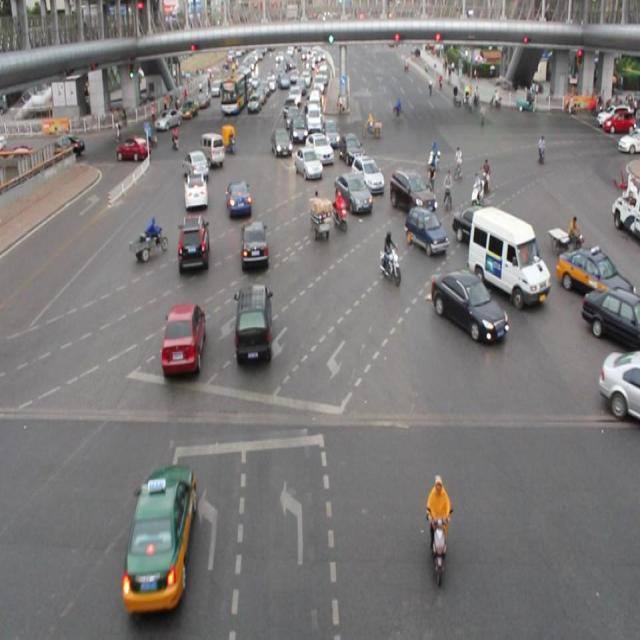car: (122, 464, 190, 604), (428, 268, 506, 342), (554, 245, 640, 302), (579, 284, 640, 351), (232, 284, 272, 368), (163, 301, 206, 378), (598, 347, 640, 420), (453, 204, 504, 249), (403, 204, 448, 254), (388, 168, 434, 214), (178, 213, 210, 270), (334, 171, 371, 213), (240, 221, 268, 271), (350, 152, 382, 191), (304, 130, 334, 168), (226, 178, 252, 221), (293, 145, 323, 181), (180, 147, 209, 180), (118, 136, 152, 163), (184, 172, 208, 210), (339, 133, 366, 166), (270, 126, 293, 161)
truck: (468, 206, 546, 302), (200, 130, 225, 168)
